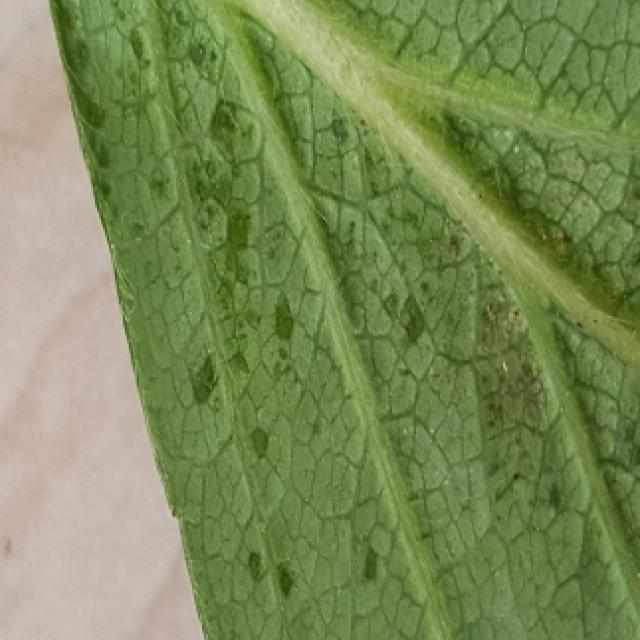Angular Leafspot: (46, 0, 640, 640)
